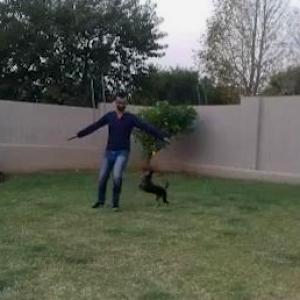land: (78, 92, 184, 216)
